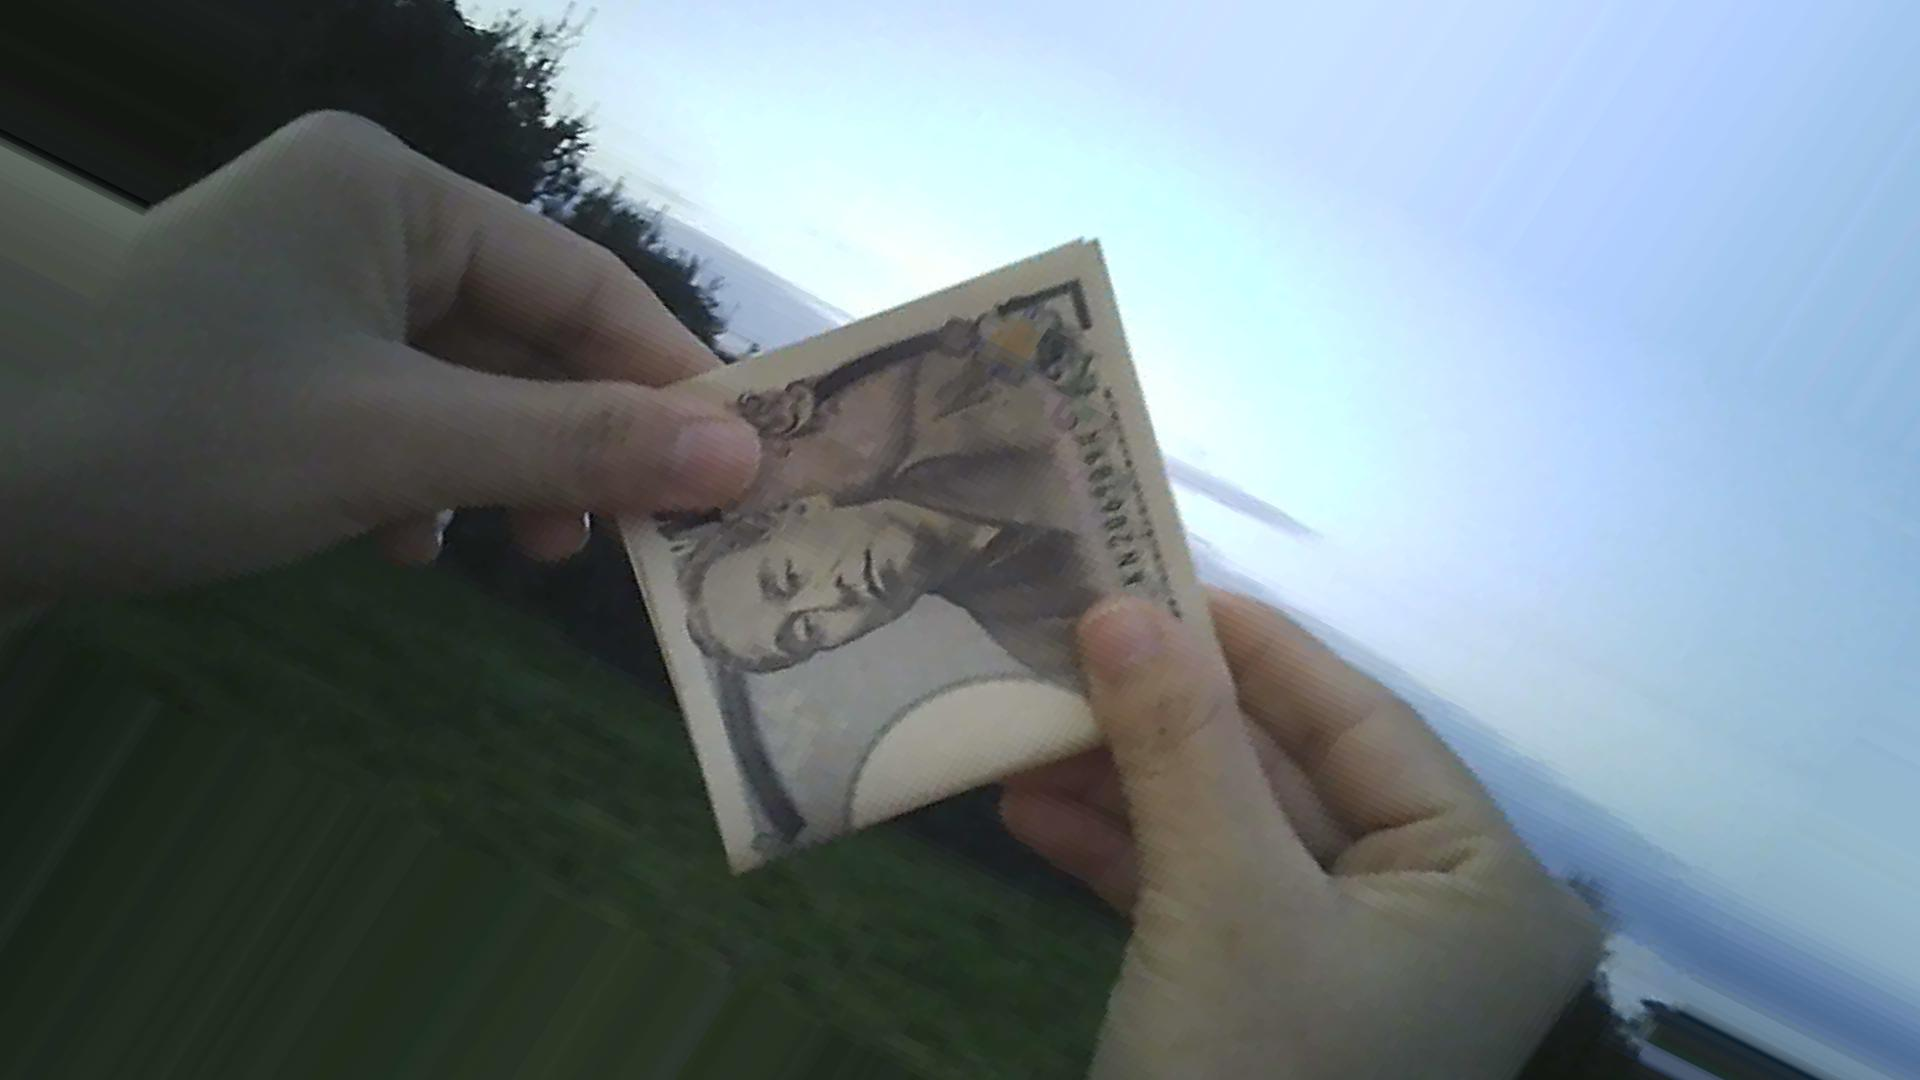10,000 Yen: (597, 239, 1247, 855)
